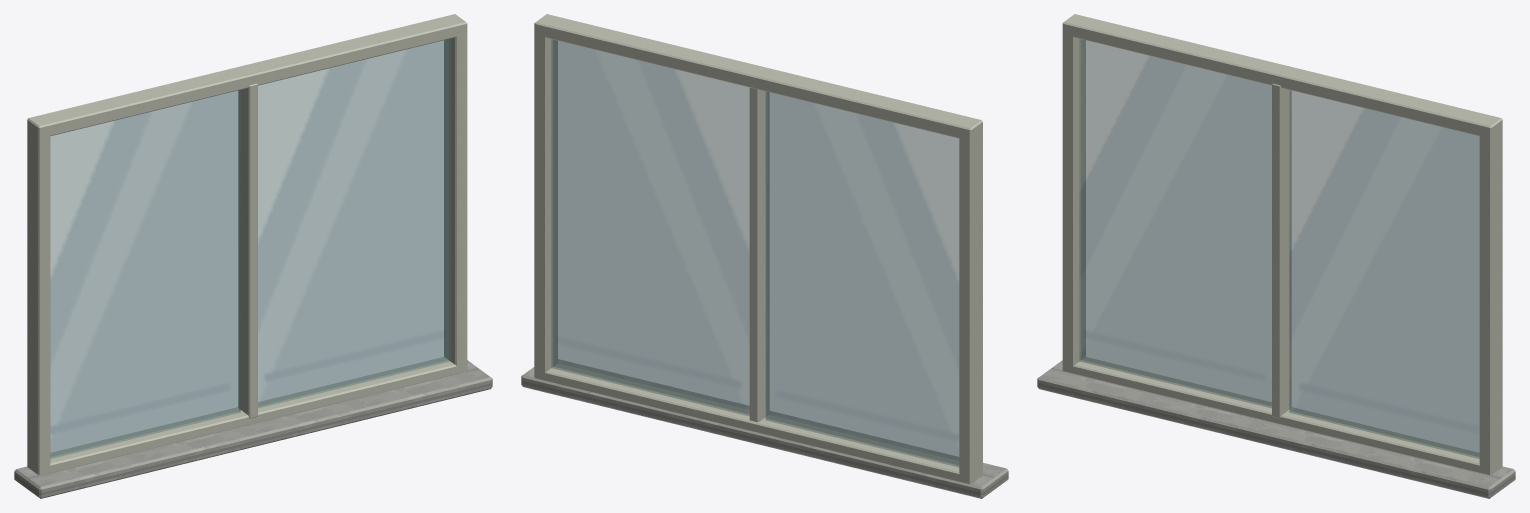
The model's file is MD_12_PanoramaWindow.fbx.
The picture shows the model from 3 angles, left to right: view 1: azimuth 30°, elevation 25°; view 2: azimuth 150°, elevation 25°; view 3: azimuth 330°, elevation 25°; orthographic projection.
Parts seen in each view (by area): view 1: MD_12_PanoramaWindow_glass_pane.001, MD_12_PanoramaWindow_glass_pane, MD_12_PanoramaWindow_projecting_sill, MD_12_PanoramaWindow_window_crossbar.001, MD_12_PanoramaWindow_window_upright, MD_12_PanoramaWindow_window_crossbar, MD_12_PanoramaWindow_window_upright.001, MD_12_PanoramaWindow_central_mullion; view 2: MD_12_PanoramaWindow_glass_pane.001, MD_12_PanoramaWindow_glass_pane, MD_12_PanoramaWindow_window_crossbar.001, MD_12_PanoramaWindow_window_crossbar, MD_12_PanoramaWindow_window_upright, MD_12_PanoramaWindow_projecting_sill, MD_12_PanoramaWindow_window_upright.001, MD_12_PanoramaWindow_central_mullion; view 3: MD_12_PanoramaWindow_glass_pane, MD_12_PanoramaWindow_glass_pane.001, MD_12_PanoramaWindow_projecting_sill, MD_12_PanoramaWindow_window_crossbar.001, MD_12_PanoramaWindow_window_upright.001, MD_12_PanoramaWindow_window_crossbar, MD_12_PanoramaWindow_window_upright, MD_12_PanoramaWindow_central_mullion.
Boxes of the visible parts, x1,y1,x2,y2 form: MD_12_PanoramaWindow_glass_pane.001: (258, 39, 450, 407); MD_12_PanoramaWindow_glass_pane: (50, 90, 240, 458); MD_12_PanoramaWindow_projecting_sill: (14, 360, 492, 498); MD_12_PanoramaWindow_window_crossbar.001: (27, 14, 467, 137); MD_12_PanoramaWindow_window_upright: (27, 116, 50, 474); MD_12_PanoramaWindow_window_crossbar: (38, 357, 467, 474); MD_12_PanoramaWindow_window_upright.001: (444, 14, 467, 371); MD_12_PanoramaWindow_central_mullion: (238, 83, 257, 418); MD_12_PanoramaWindow_glass_pane.001: (551, 39, 749, 415); MD_12_PanoramaWindow_glass_pane: (765, 91, 959, 467); MD_12_PanoramaWindow_window_crossbar.001: (534, 14, 982, 140); MD_12_PanoramaWindow_window_crossbar: (534, 363, 982, 483); MD_12_PanoramaWindow_window_upright: (959, 118, 982, 483); MD_12_PanoramaWindow_projecting_sill: (521, 359, 1008, 498); MD_12_PanoramaWindow_window_upright.001: (534, 14, 557, 378); MD_12_PanoramaWindow_central_mullion: (749, 87, 769, 422); MD_12_PanoramaWindow_glass_pane: (1079, 39, 1271, 407); MD_12_PanoramaWindow_glass_pane.001: (1289, 90, 1479, 458); MD_12_PanoramaWindow_projecting_sill: (1037, 360, 1515, 498); MD_12_PanoramaWindow_window_crossbar.001: (1062, 14, 1502, 137); MD_12_PanoramaWindow_window_upright.001: (1479, 118, 1502, 474); MD_12_PanoramaWindow_window_crossbar: (1062, 357, 1491, 474); MD_12_PanoramaWindow_window_upright: (1062, 14, 1085, 372); MD_12_PanoramaWindow_central_mullion: (1272, 83, 1291, 418).
Bounding box in the file's own units: 2.96 × 2.25 × 0.3.
3 materials, 3 textured.
